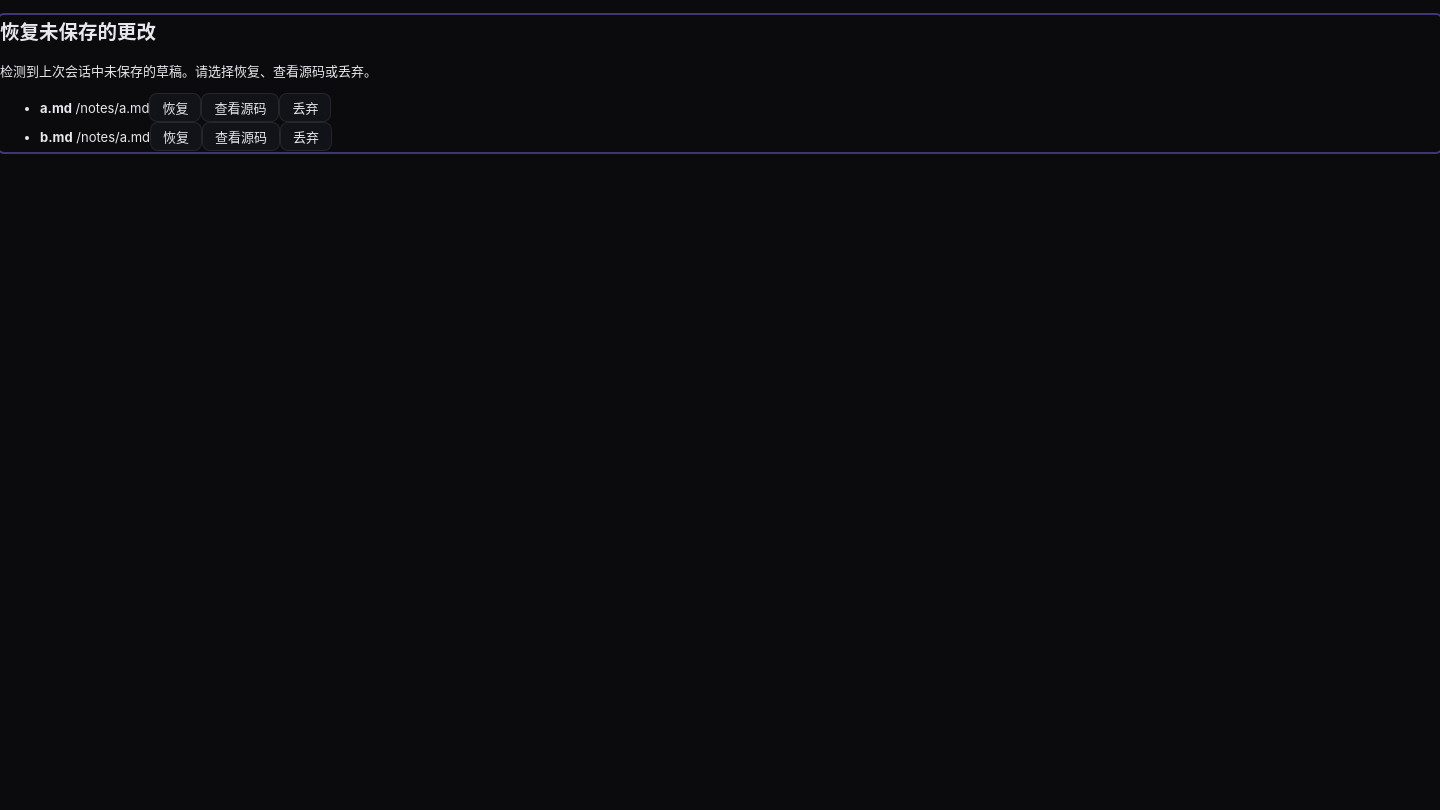
RecoveryDialog › never shows a stale source under a different draft
The width and height of the screenshot is (1440, 810).
Click the 1st button "查看源码" at point(240, 108), box x1=201 y1=93 x2=279 y2=122
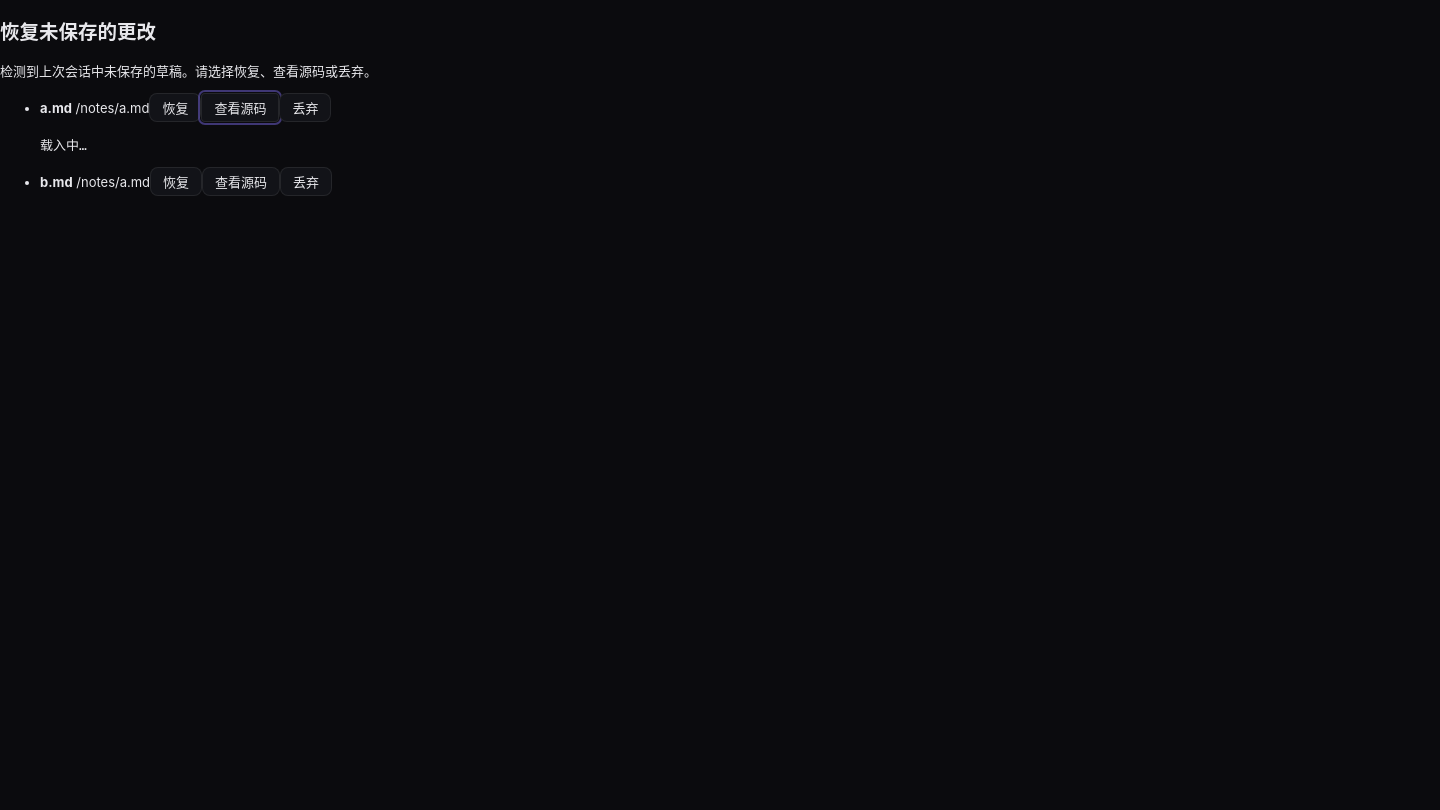
Click the button "查看源码" in the row of "b.md" at point(241, 182), box x1=202 y1=167 x2=280 y2=196
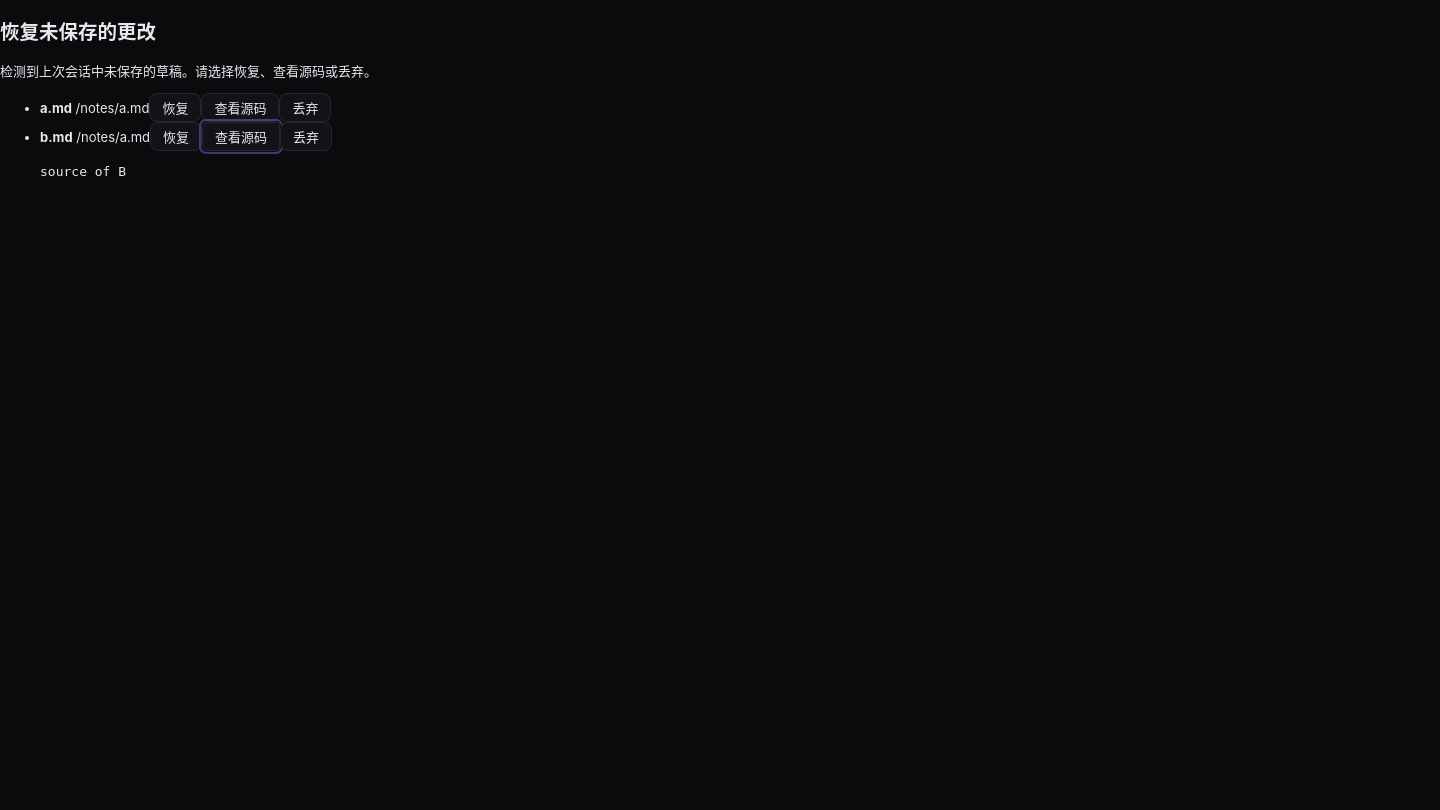
Expected: the text "source of B" is shown, x1=40 y1=164 x2=126 y2=179
